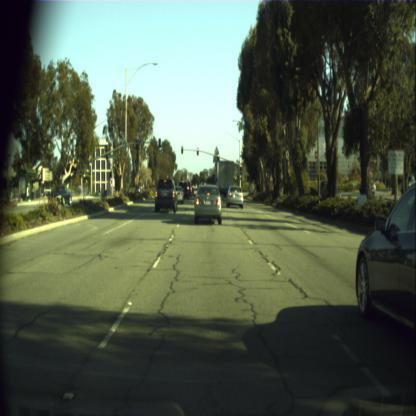Red: (240, 164, 242, 174), (196, 147, 198, 155), (217, 153, 219, 160)
RedLeft: (181, 146, 183, 153)
